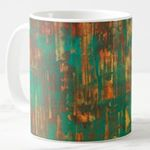cups: (3, 7, 139, 144)
